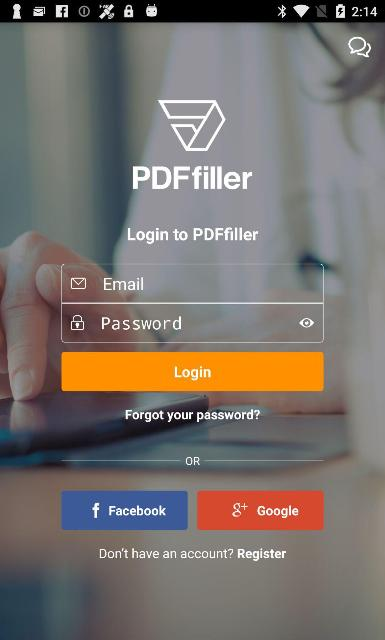BackgroundImage: (0, 22, 384, 640)
EditText: (61, 263, 323, 303), (61, 302, 323, 342)
Icon: (348, 36, 370, 58), (70, 314, 84, 330), (232, 503, 247, 517), (70, 278, 86, 288), (300, 318, 314, 327), (92, 502, 99, 518)
Image: (158, 100, 226, 152)
Text: (133, 166, 252, 188), (127, 226, 258, 244), (99, 548, 286, 560), (124, 408, 260, 422), (102, 316, 180, 329), (110, 506, 166, 516), (175, 366, 211, 380), (104, 278, 144, 290), (258, 506, 298, 518), (186, 456, 200, 466)
TextButton: (61, 351, 323, 391)
TextImageButton: (198, 490, 324, 530), (62, 490, 188, 530)
UpperTaskBar: (0, 0, 384, 22)
